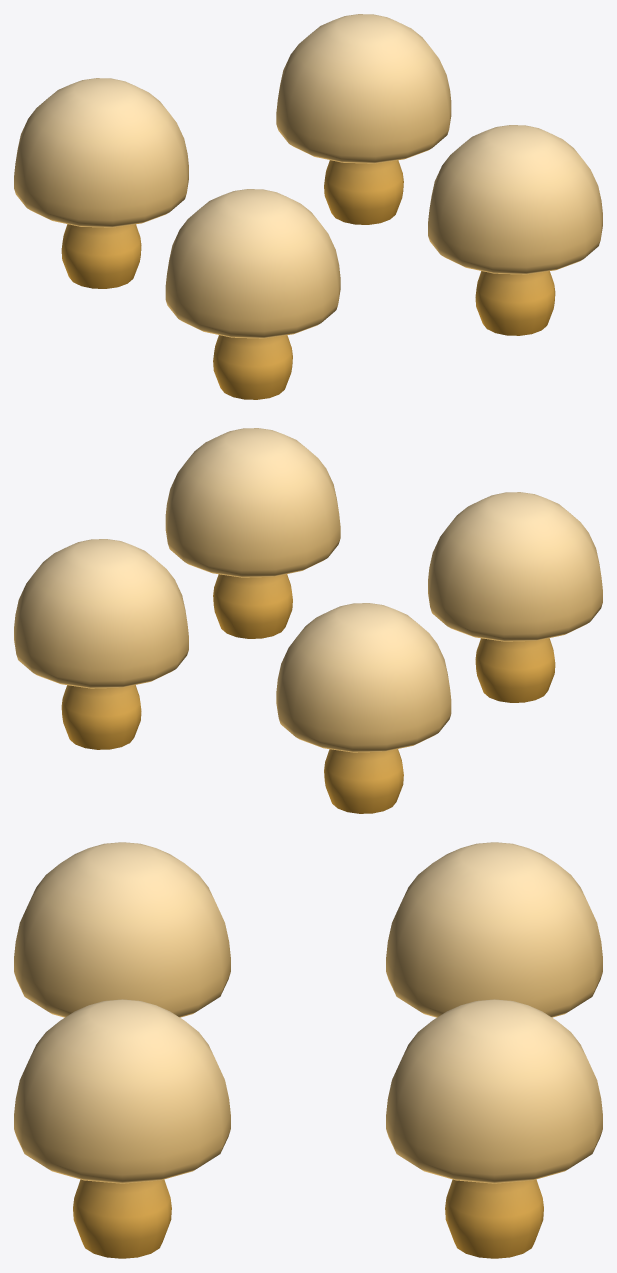
File: Farm_Crop_Mashroom_02_Step_03.glb
3 views of the same model, one above another, from view 1: azimuth 30°, elevation 25°; view 2: azimuth 150°, elevation 25°; view 3: azimuth 270°, elevation 25° (orthographic). The views are drawn at different scales.
Visible parts, largest first — view 1: Farm_Crop_Mashroom_02_Step_03; view 2: Farm_Crop_Mashroom_02_Step_03; view 3: Farm_Crop_Mashroom_02_Step_03.
Boxes of the visible parts, <box> form: Farm_Crop_Mashroom_02_Step_03: <box>14,14,602,399</box>; Farm_Crop_Mashroom_02_Step_03: <box>14,428,602,813</box>; Farm_Crop_Mashroom_02_Step_03: <box>14,842,602,1258</box>.
Size of the model in its own units: 1.58 by 0.6835 by 1.58.
Materials: 1 (1 with a texture image).
